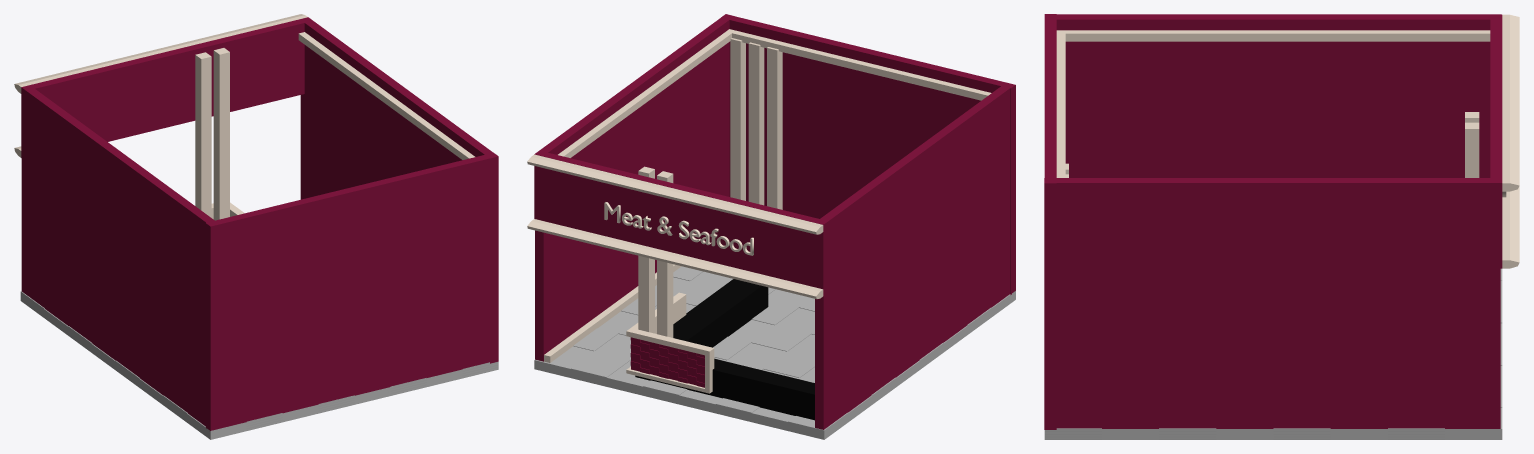
The model's file is Meat & Seafood Stall.glb.
The picture shows the model from 3 angles, left to right: view 1: azimuth 30°, elevation 25°; view 2: azimuth 150°, elevation 25°; view 3: azimuth 270°, elevation 25°; orthographic projection. The views are drawn at different scales.
Visible parts, largest first — view 1: Cube.189; view 2: Cube.189, Text.002; view 3: Cube.189.
Boxes of the visible parts, x1,y1,x2,y2 form: Cube.189: (14,14,498,439); Cube.189: (527,14,1015,439); Text.002: (604,202,753,255); Cube.189: (1044,14,1519,439).
Bounding box in the file's own units: 52.57 × 37.22 × 62.41.
